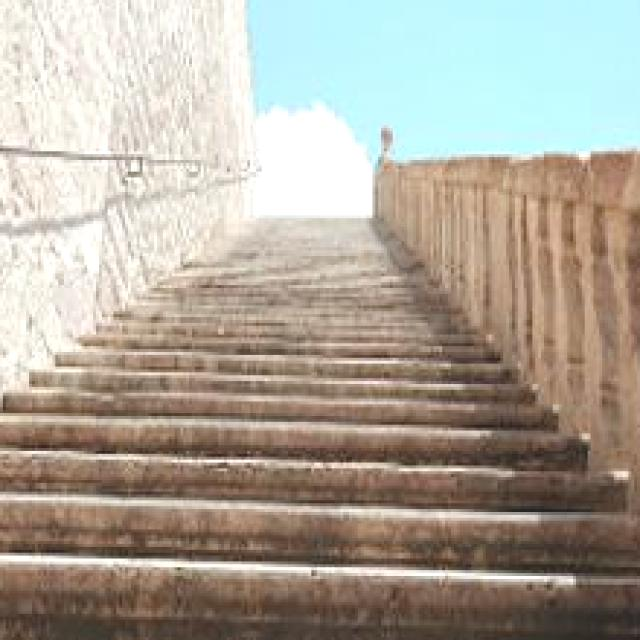upstair: (1, 330, 638, 615)
